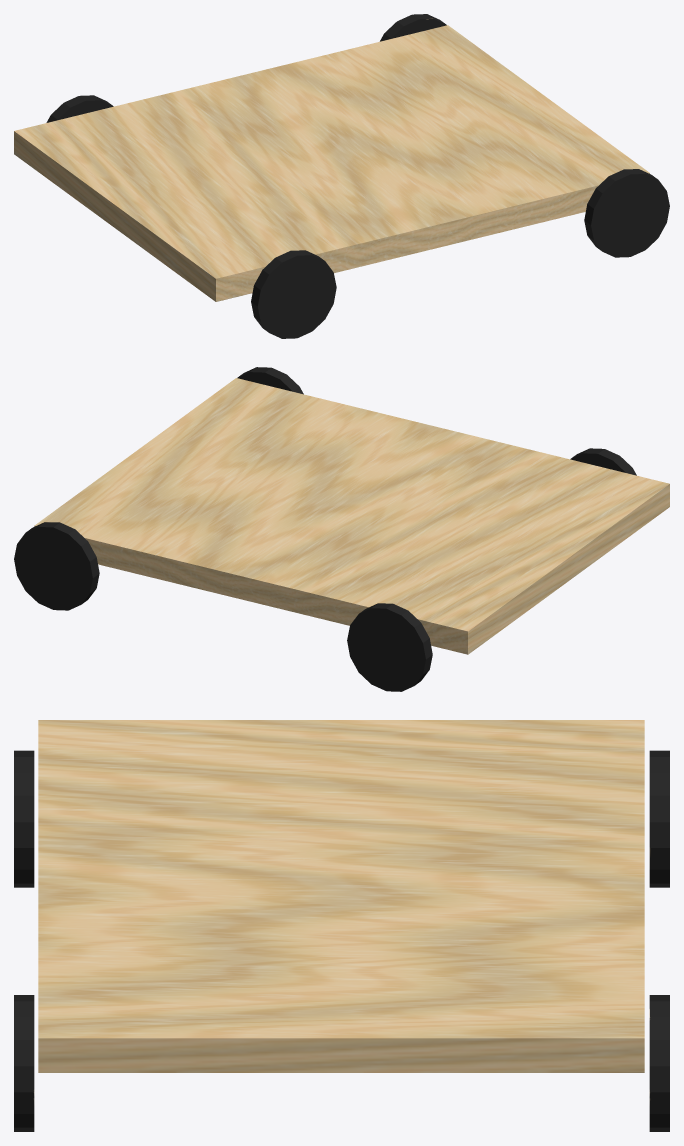
Rendered from cart.obj.
3 renders of one model, top to bottom at view 1: azimuth 30°, elevation 25°; view 2: azimuth 150°, elevation 25°; view 3: azimuth 270°, elevation 25°, orthographic. The views are drawn at different scales.
Parts seen in each view (by area): view 1: Wheels_Circle.005; view 2: Wheels_Circle.005; view 3: Wheels_Circle.005.
Part boxes in pixels (left/top/right/bottom): Wheels_Circle.005: left=14, top=14, right=669, bottom=338; Wheels_Circle.005: left=14, top=367, right=669, bottom=691; Wheels_Circle.005: left=14, top=720, right=669, bottom=1131.
Bounding box in the file's own units: 4.01 × 0.711 × 3.41.
